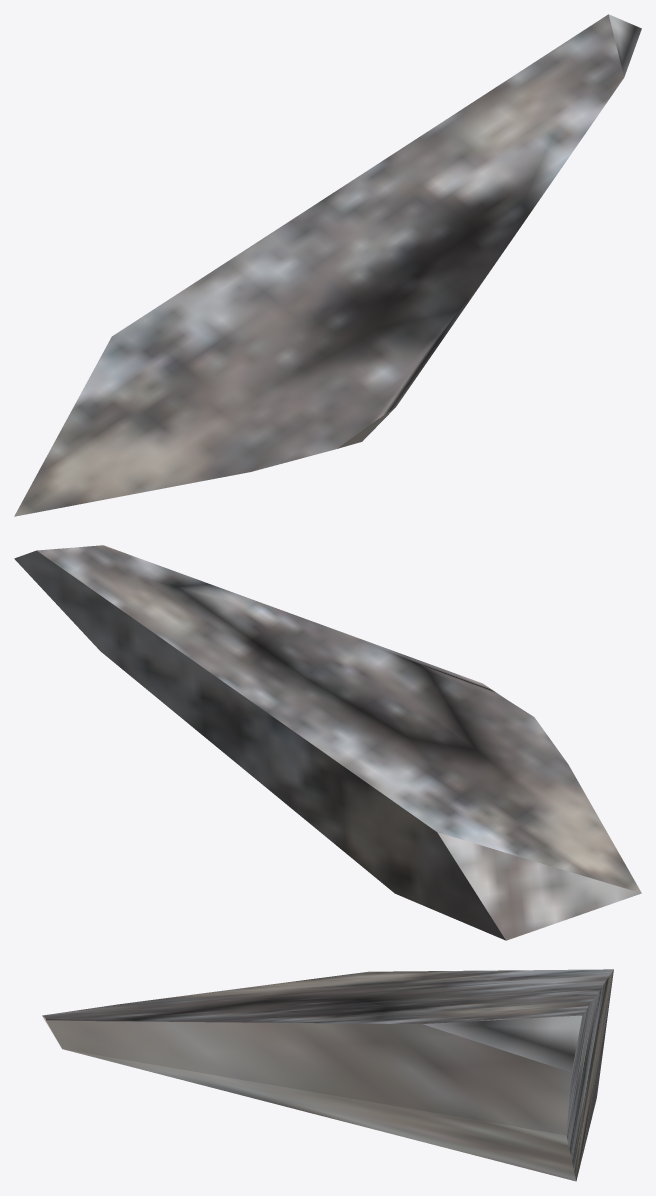
The model's file is Asteroid_Large_001_02_004_03_010.fbx.
3 renders of one model, top to bottom at view 1: azimuth 30°, elevation 25°; view 2: azimuth 150°, elevation 25°; view 3: azimuth 270°, elevation 25°, orthographic. The views are drawn at different scales.
Parts seen in each view (by area): view 1: Asteroid_Large_001_02_004_03_010; view 2: Asteroid_Large_001_02_004_03_010; view 3: Asteroid_Large_001_02_004_03_010.
Boxes of the visible parts, x1,y1,x2,y2 form: Asteroid_Large_001_02_004_03_010: (14,14,641,516); Asteroid_Large_001_02_004_03_010: (14,545,641,940); Asteroid_Large_001_02_004_03_010: (42,969,613,1181).
Bounding box in the file's own units: 2.97 × 1.34 × 1.28.
